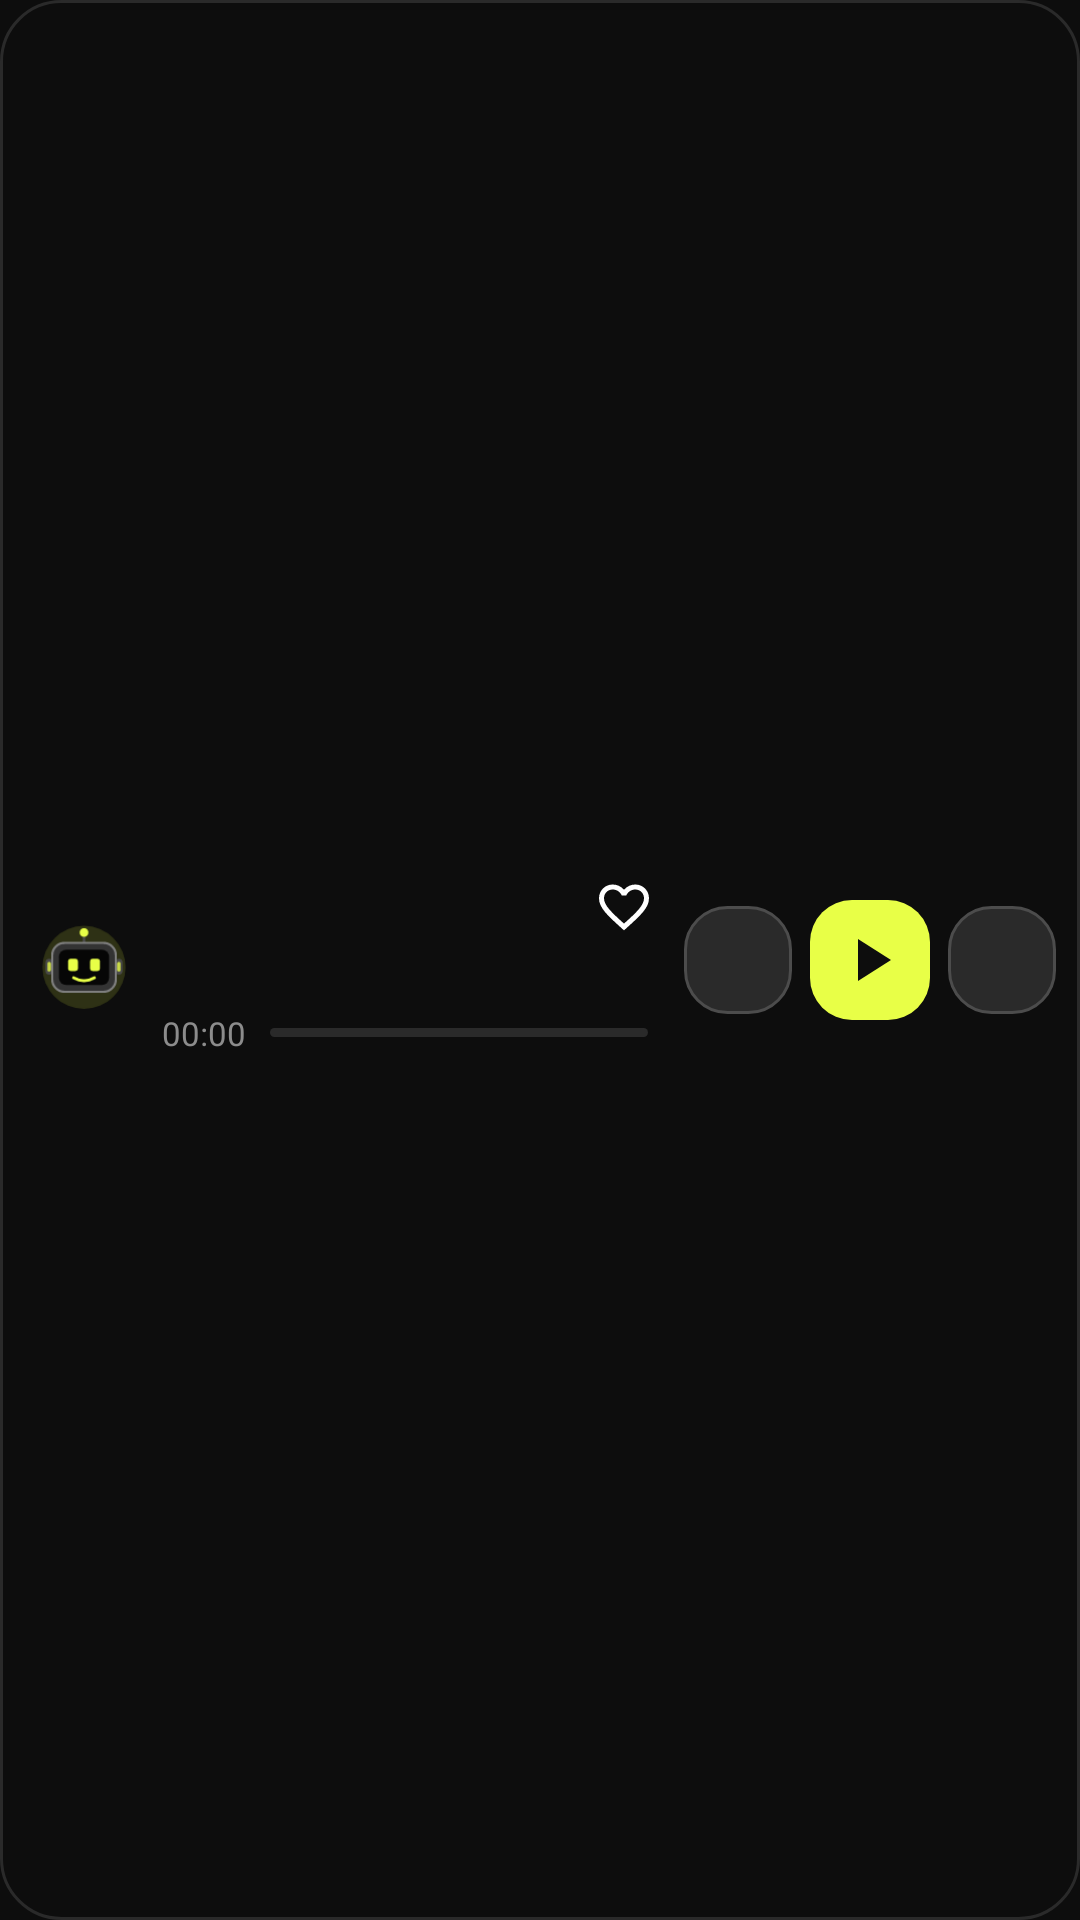

Named icons in this screenshot (1080x1920) and their centers, (x,y):
Favorite: (624,907)
widget play: (870,960)
